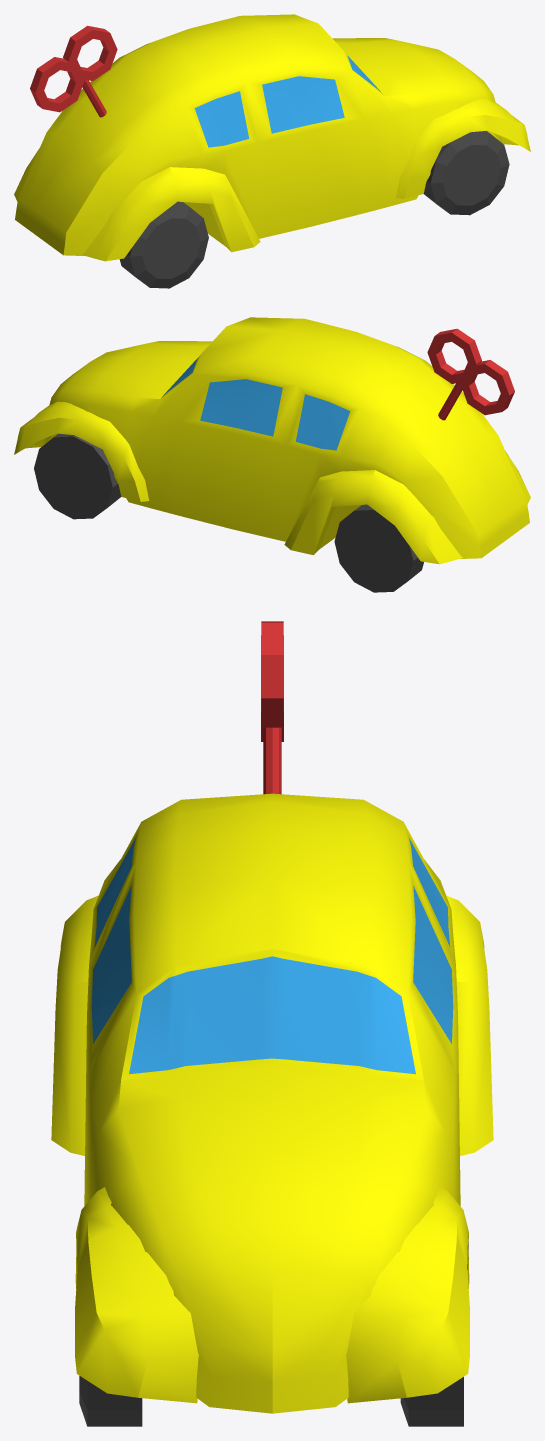
The model's file is carroPowerUp.fbx.
3 renders of one model, top to bottom at view 1: azimuth 30°, elevation 25°; view 2: azimuth 150°, elevation 25°; view 3: azimuth 270°, elevation 25°, orthographic. The views are drawn at different scales.
Visible parts, largest first — view 1: Cube.011, Cylinder.008, Cylinder.006; view 2: Cube.011, Cylinder.008, Cylinder.006; view 3: Cube.011, Cylinder.008, Cylinder.006.
Boxes of the visible parts, <box> form: Cube.011: <box>14,14,530,261</box>; Cylinder.008: <box>119,131,509,288</box>; Cylinder.006: <box>30,25,117,117</box>; Cube.011: <box>14,317,530,564</box>; Cylinder.008: <box>34,433,423,592</box>; Cylinder.006: <box>427,328,514,420</box>; Cube.011: <box>51,793,493,1413</box>; Cylinder.008: <box>79,1376,463,1426</box>; Cylinder.006: <box>261,621,283,794</box>.
Size of the model in its own units: 1167 by 568 by 485.
